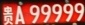A: (15, 6, 25, 24)
